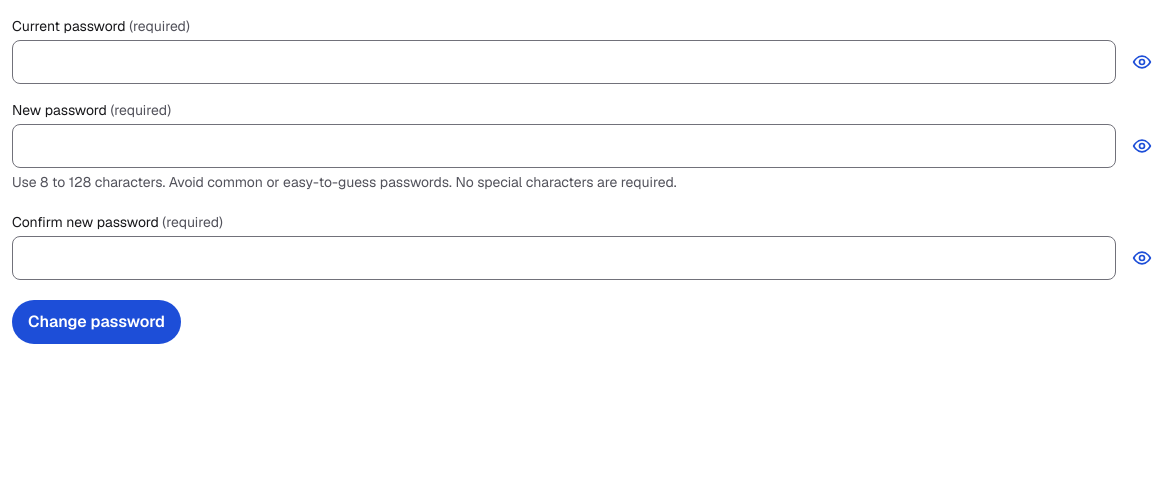
Scenario: ChangePasswordForm interactions › failure also clears every password field (criterion 1)
Type "old-password-1" into the password field labelled "Current password (required)" at {"x": 564, "y": 62}, box [12,40,1116,84]
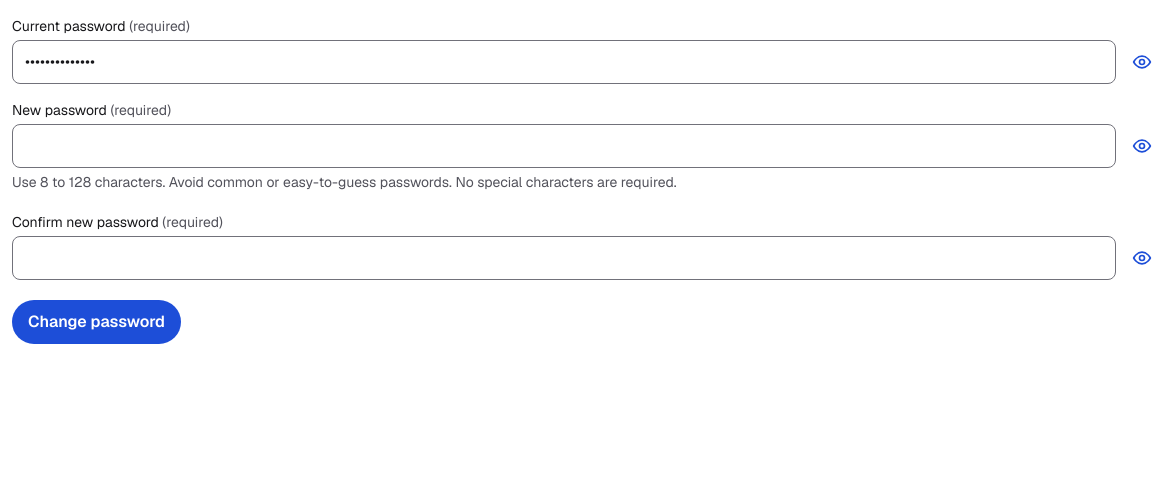
Type "short" into the password field labelled "New password (required)" at {"x": 564, "y": 146}, box [12,124,1116,168]
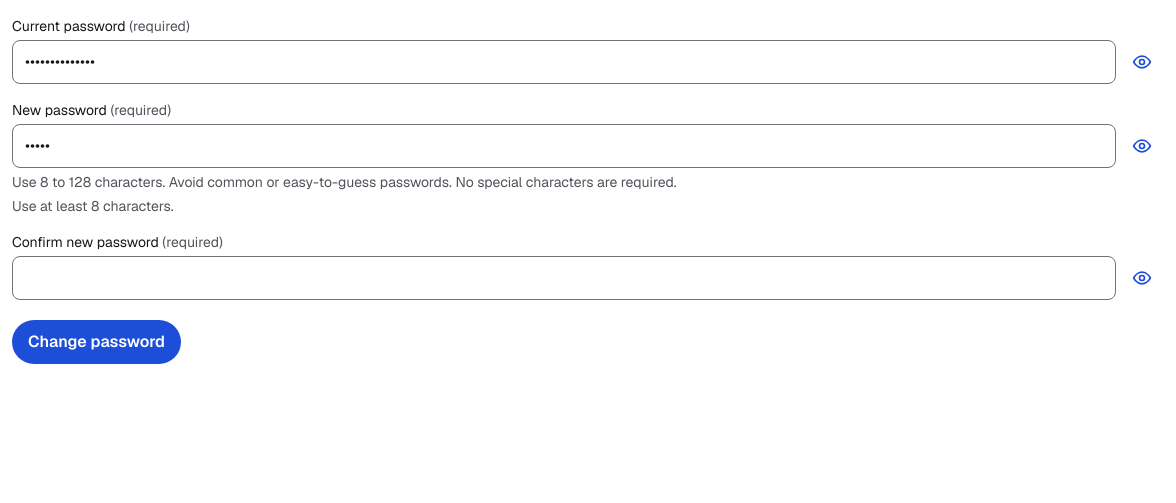
Type "short" into the password field labelled "Confirm new password (required)" at {"x": 564, "y": 278}, box [12,256,1116,300]
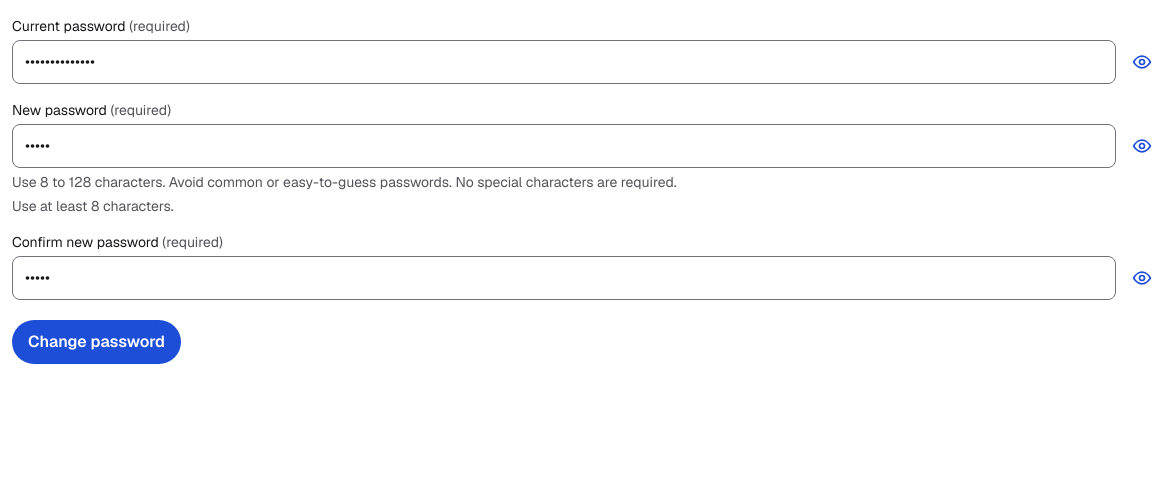
Submit the form
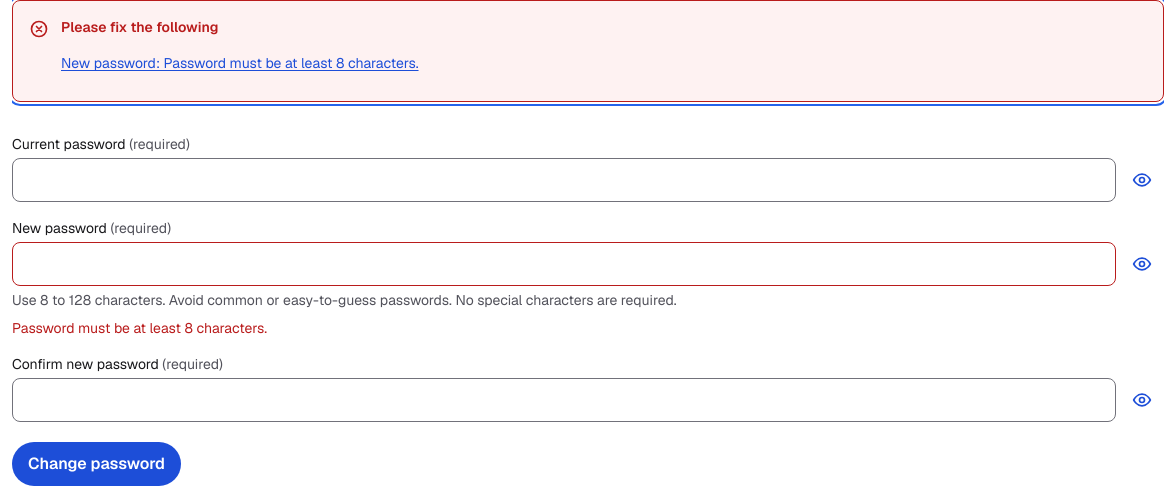
Expected: the message "Please fix the following New password: Password must be at least 8 characters." is shown, [12,0,1164,102]
